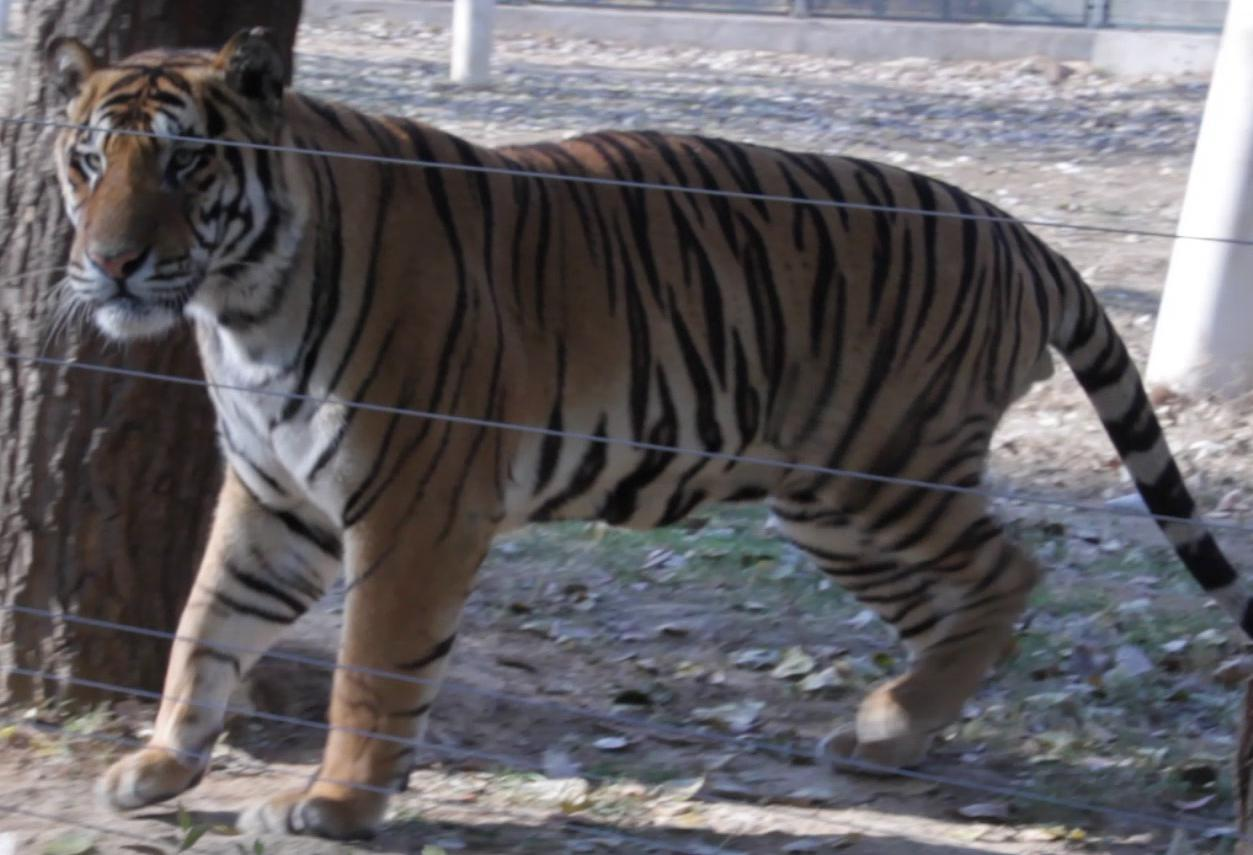tiger: (54, 28, 1235, 839)
